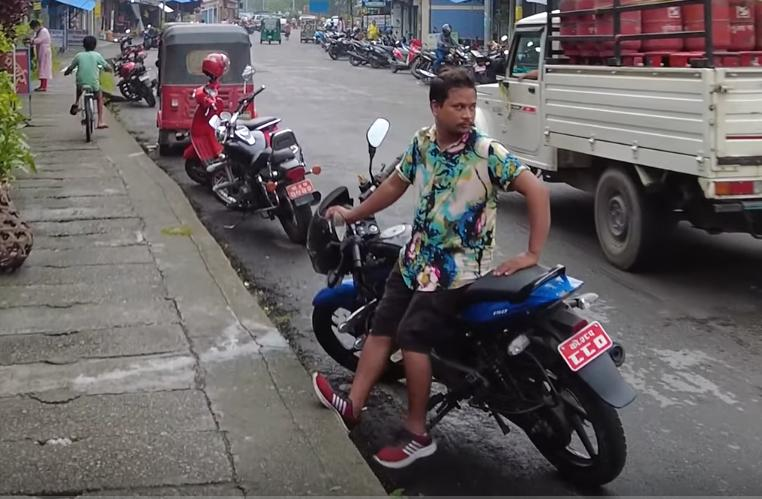bike: (303, 119, 643, 499), (202, 72, 327, 241)
